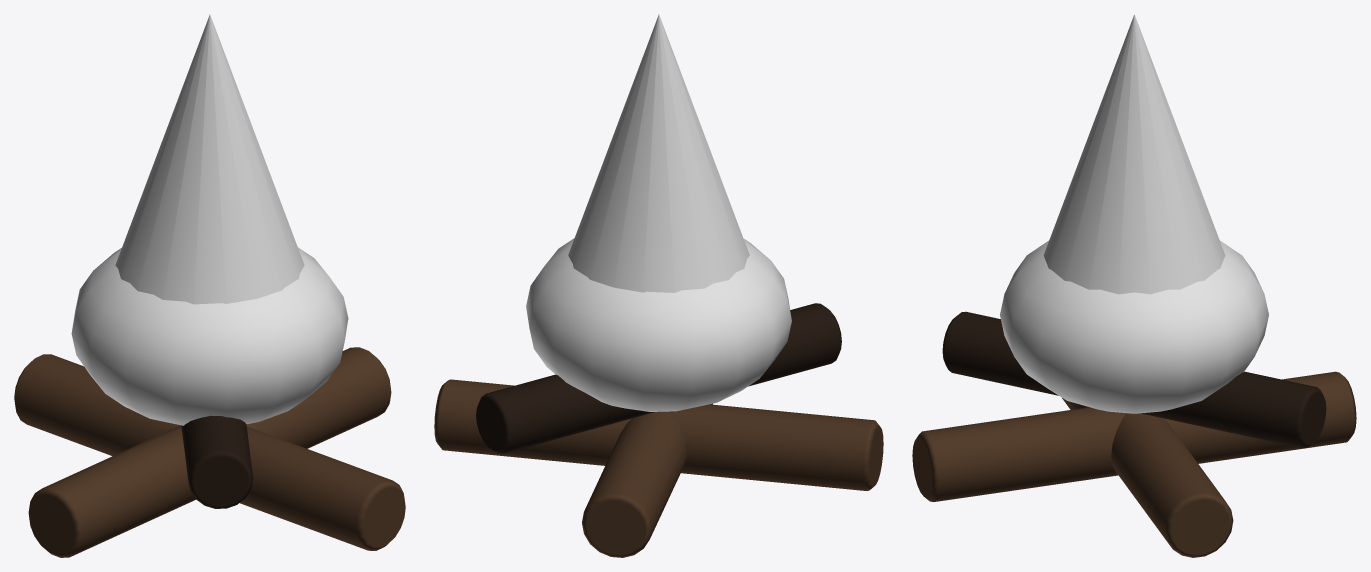
File: ground-flame.e0656d7f.glb
3 views of the same model, side by side, from view 1: azimuth 30°, elevation 25°; view 2: azimuth 150°, elevation 25°; view 3: azimuth 270°, elevation 25° (orthographic). The views are drawn at different scales.
Visible parts, largest first — view 1: flame, body; view 2: flame, body; view 3: flame, body.
Boxes of the visible parts, x1=… form: flame: x1=71, y1=14, x2=348, y2=425; body: x1=14, y1=347, x2=405, y2=557; flame: x1=526, y1=14, x2=791, y2=411; body: x1=434, y1=303, x2=883, y2=557; flame: x1=1000, y1=14, x2=1268, y2=413; body: x1=912, y1=311, x2=1356, y2=557.
Bounding box in the file's own units: 0.4975 × 0.5594 × 0.4949.
